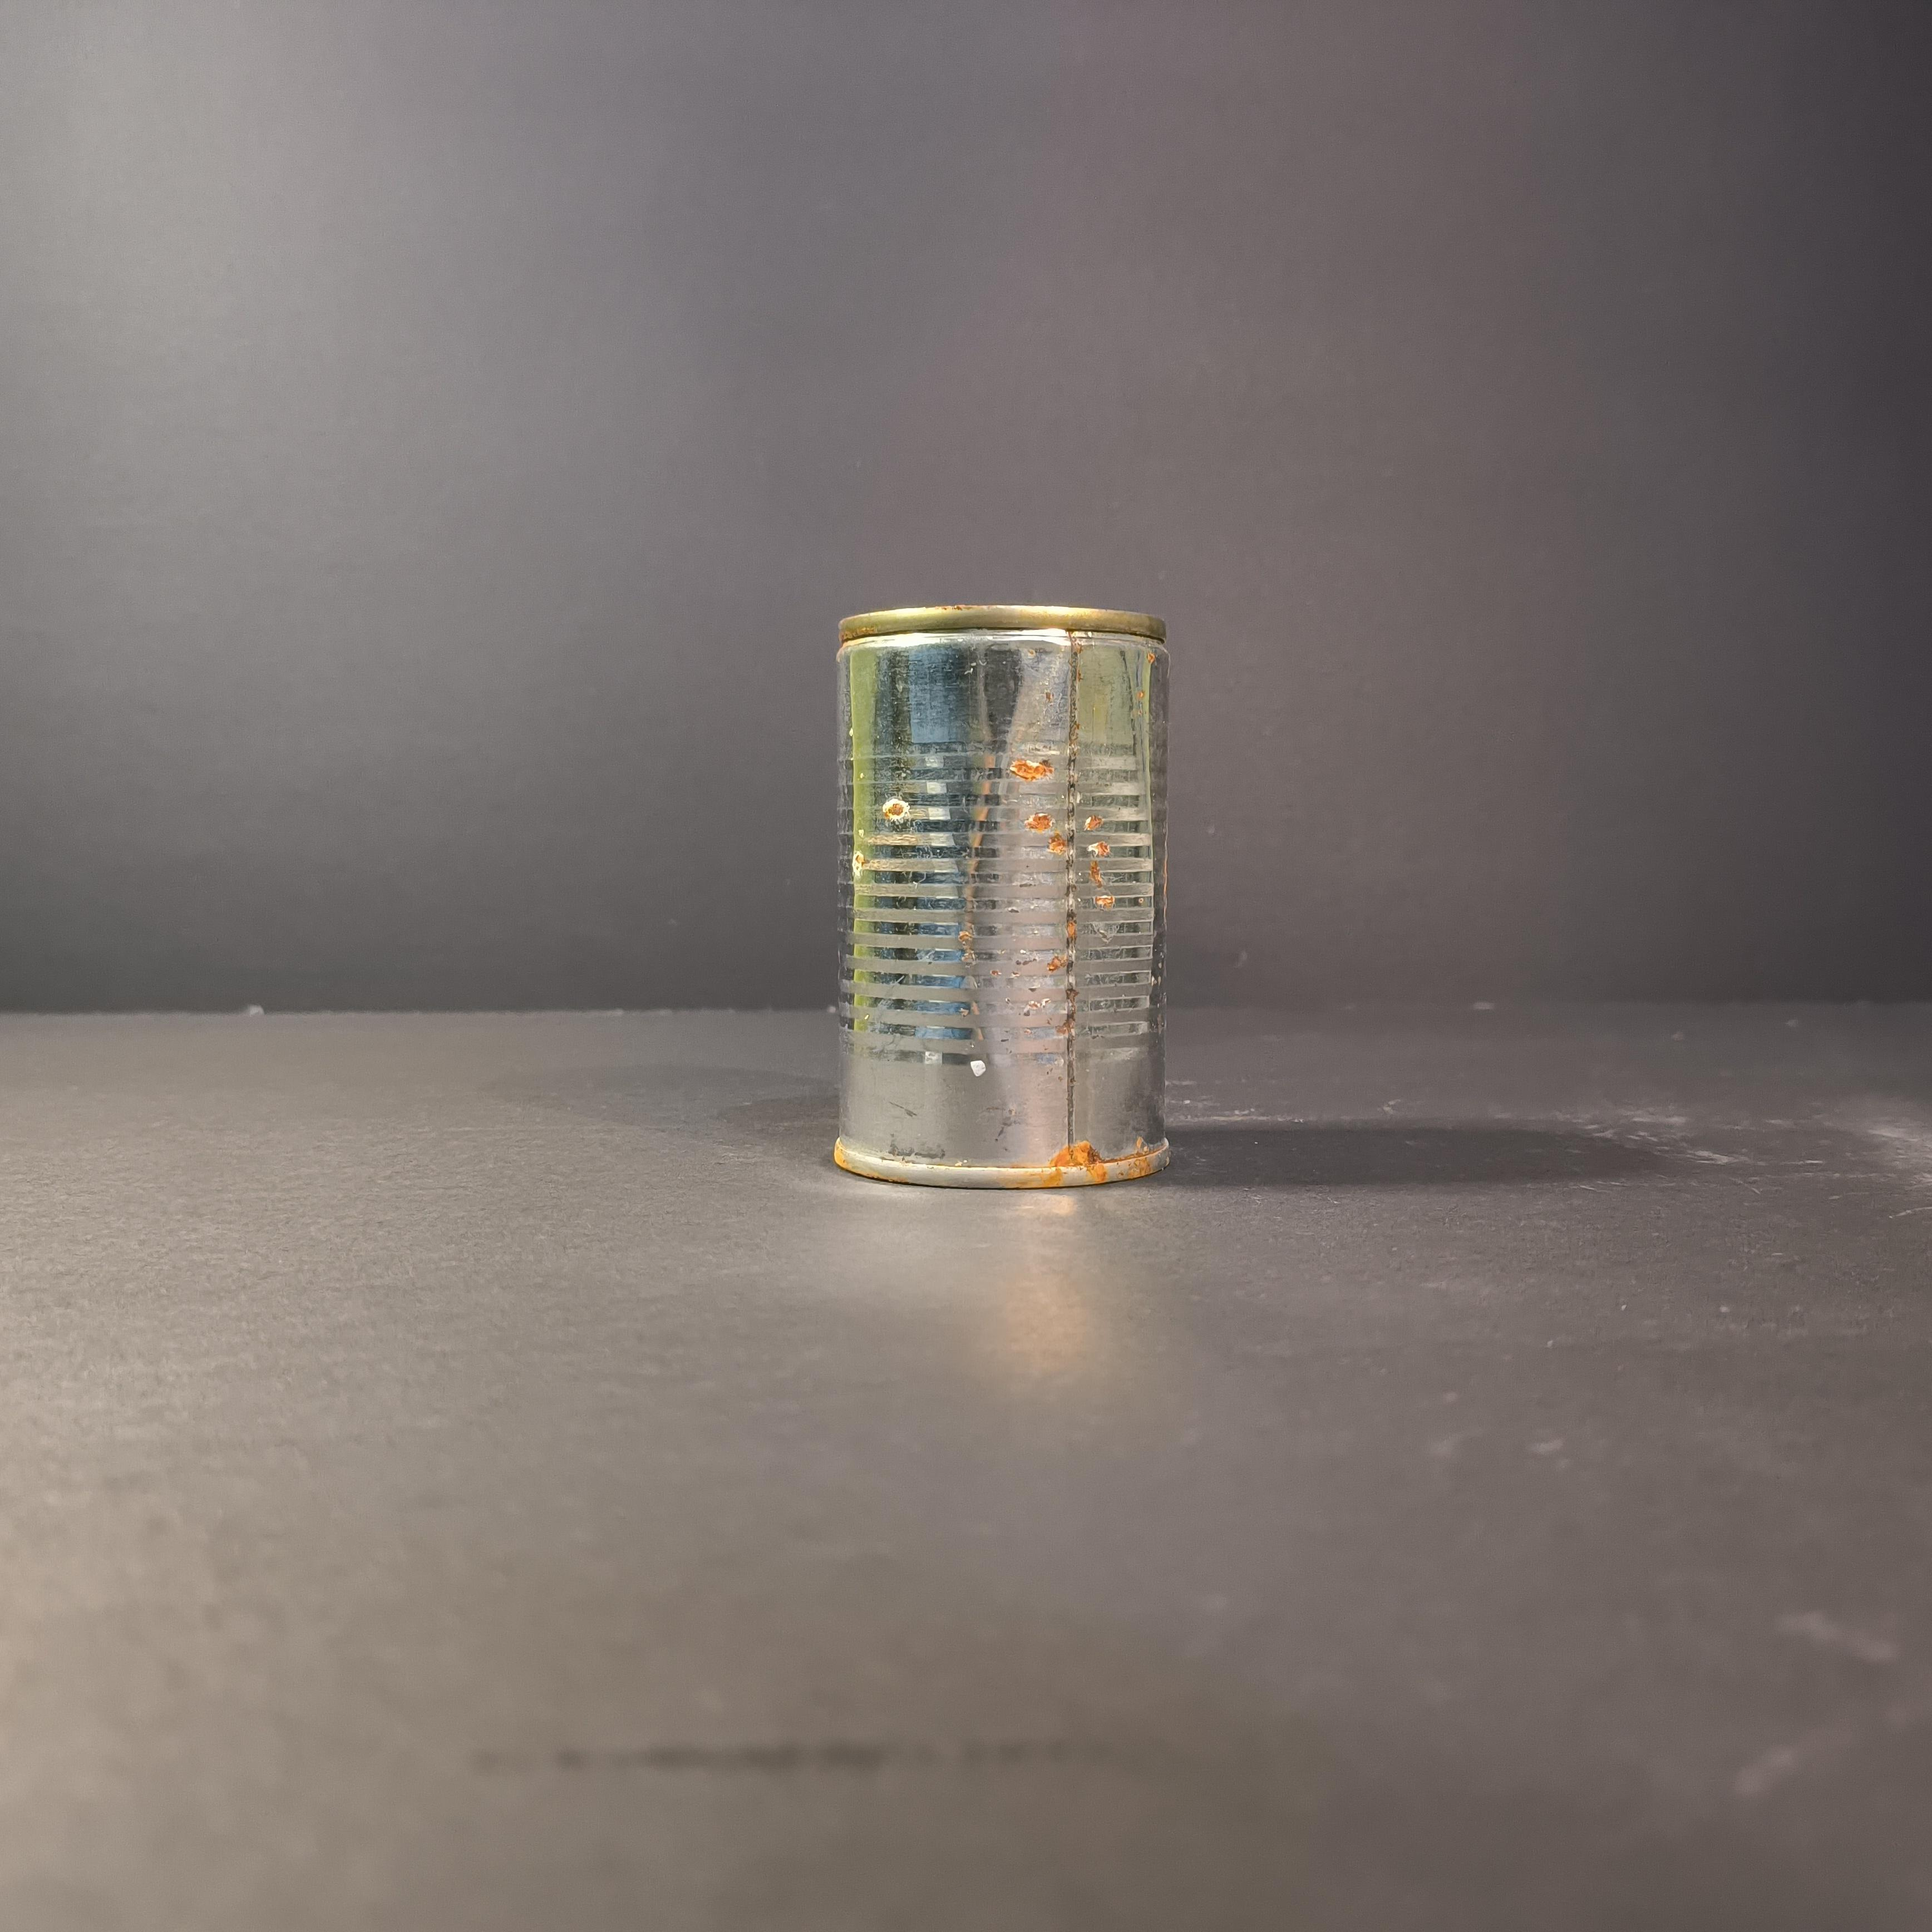Rusted: (812, 573, 1200, 1201)
